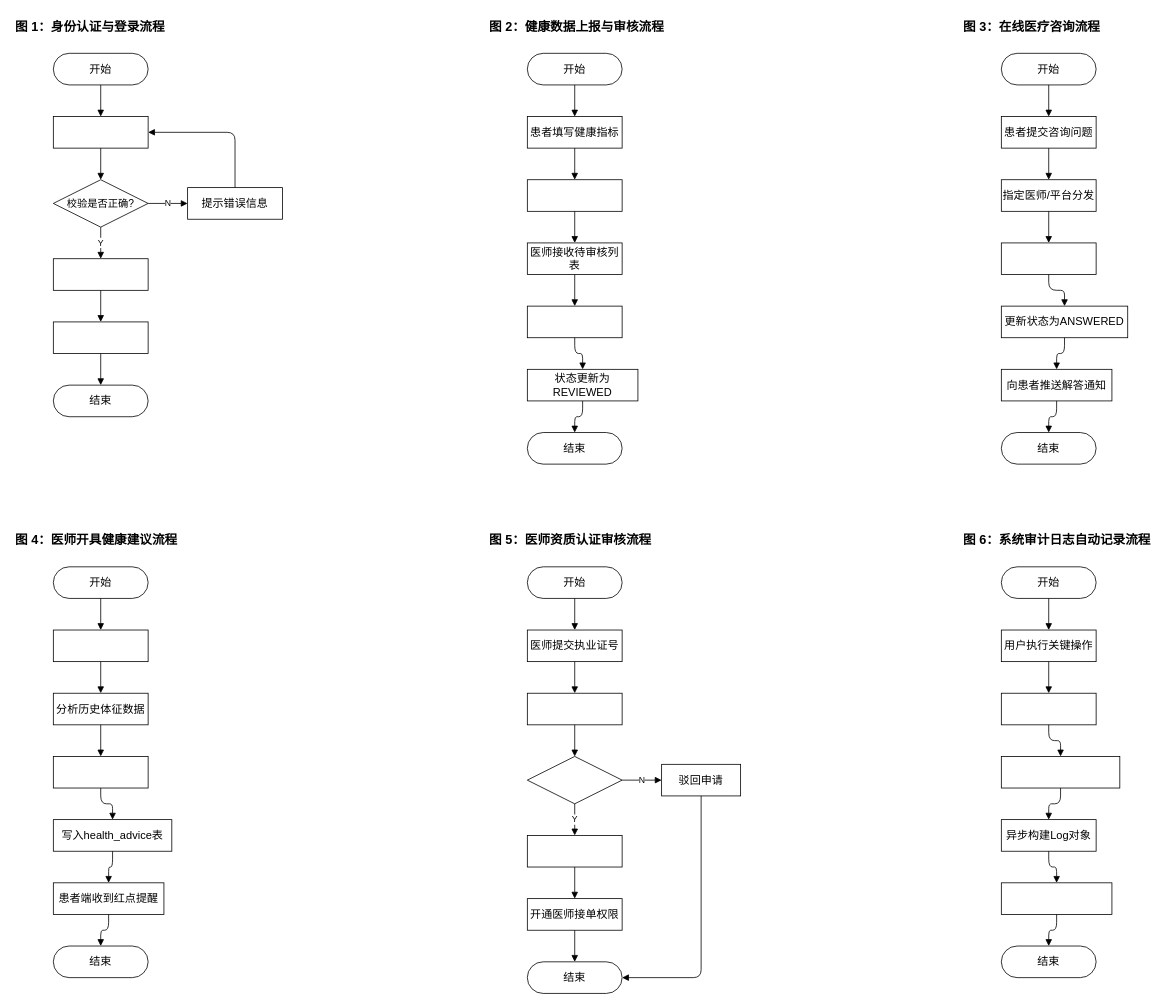
Image size: 1172x1007. Some labels were removed from this diagram. The box of each missing label's shape, as (x1, y1, x2, y2) in pixels:
判断Role角色类型: (53, 258, 148, 290)
医师查看并解答: (1001, 242, 1096, 275)
医师调阅患者档案: (53, 629, 148, 662)
填写审核意见反馈: (527, 305, 622, 338)
填写康复建议内容: (53, 756, 148, 788)
拦截器捕获请求: (1001, 692, 1096, 725)
持久化至audit_logs: (1001, 882, 1112, 914)
提取Action/Resource: (1001, 756, 1120, 788)
更新Verified为1: (527, 835, 622, 867)
状态设为PENDING: (527, 179, 622, 211)
管理员查看申请: (527, 692, 622, 725)
资质是否合规?: (527, 756, 622, 804)
跳转对应角色工作台: (53, 321, 148, 354)
输入账号密码: (53, 116, 148, 148)
